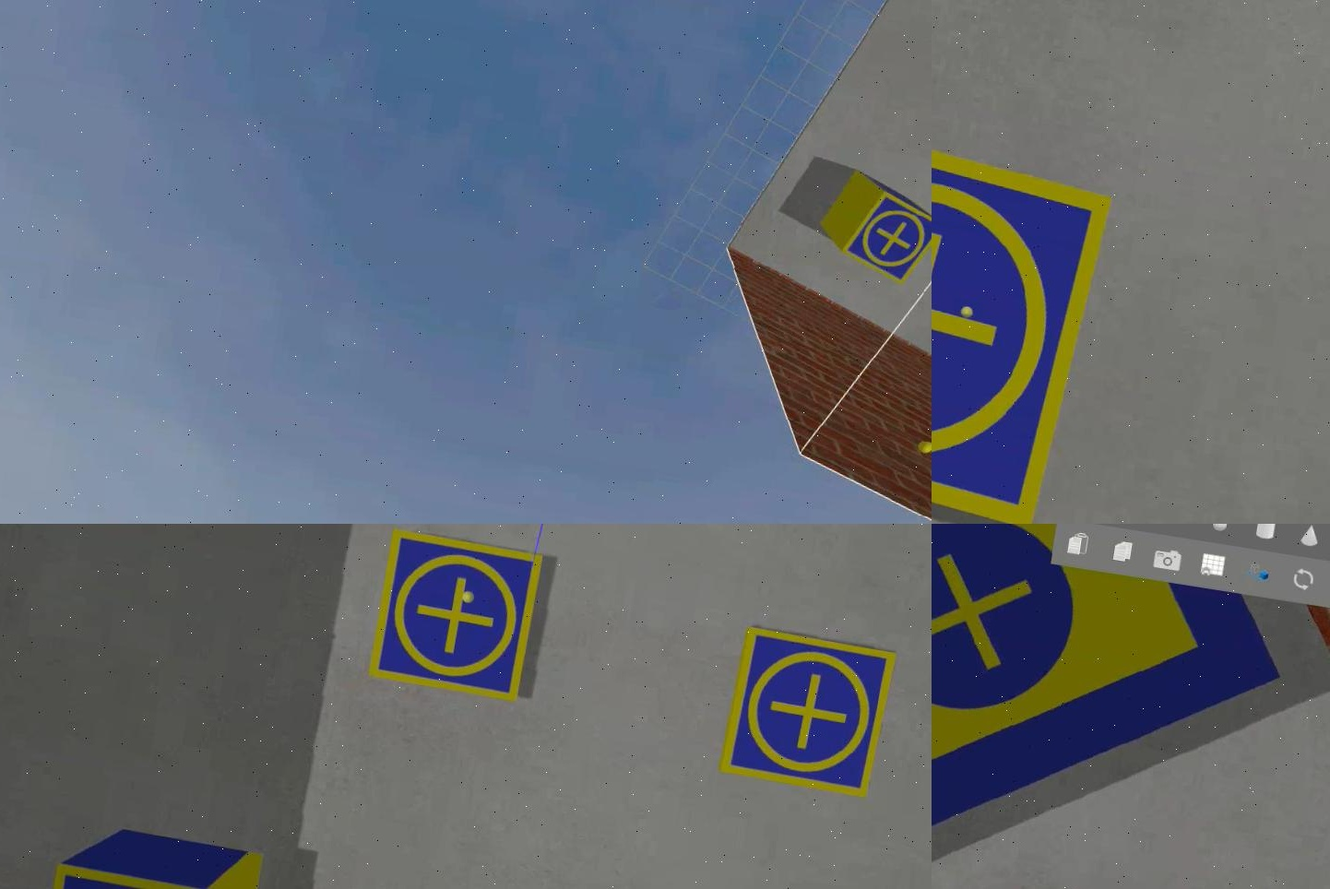large_base: (931, 524, 1304, 889)
small_base: (931, 107, 1117, 524), (716, 624, 897, 801), (364, 528, 543, 706), (837, 186, 931, 288)
